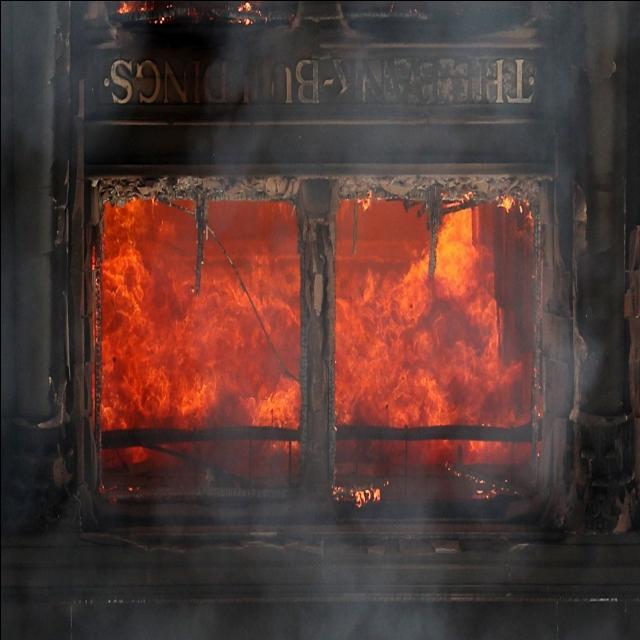Fire: (98, 182, 544, 512)
